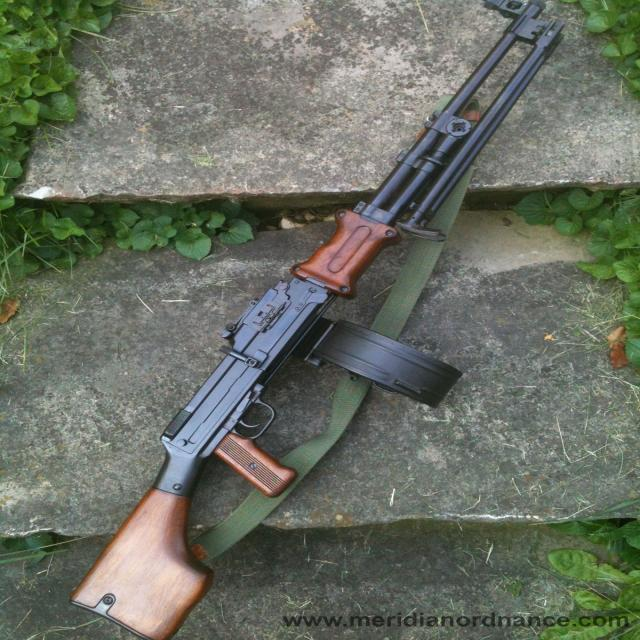ak: (8, 4, 606, 640)
